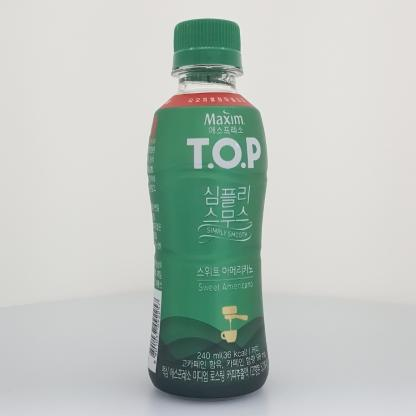--TOP--------------240ML: (146, 17, 270, 403)
